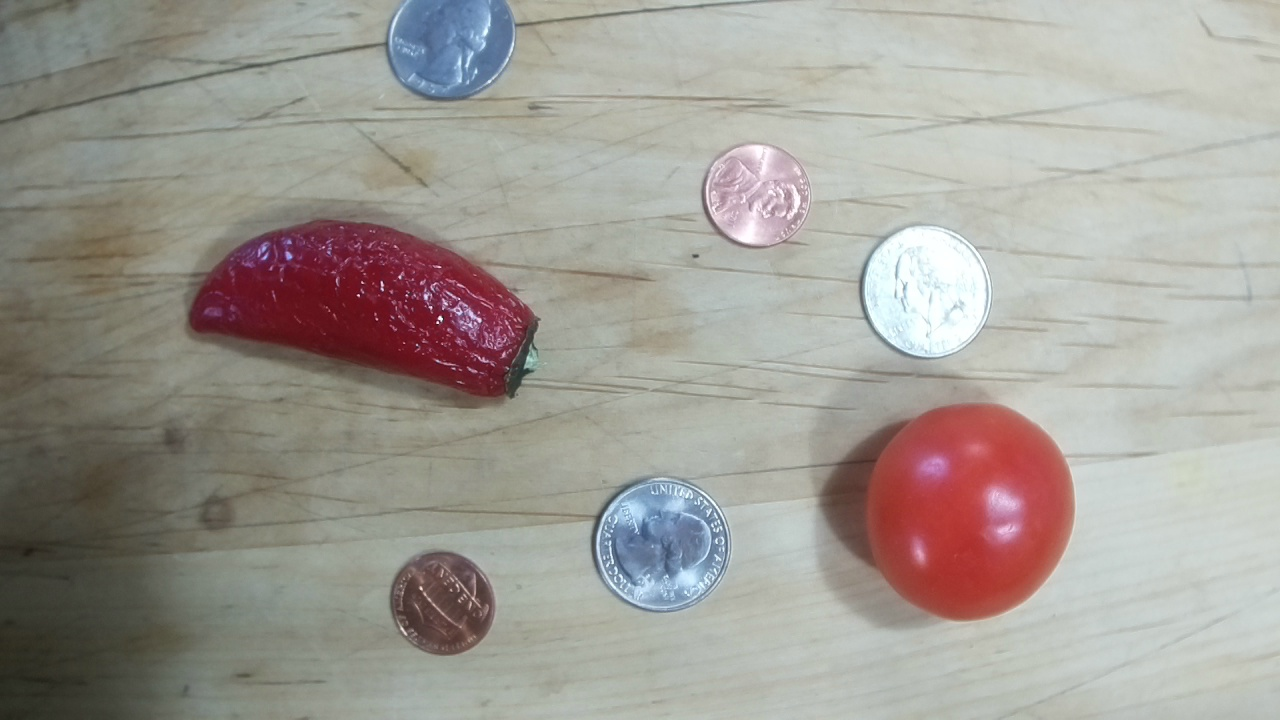penny: (388, 547, 499, 659), (699, 140, 812, 250)
quarter: (591, 476, 733, 615), (859, 225, 993, 361), (384, 1, 521, 104)
